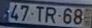4: (9, 3, 19, 21)
6: (61, 7, 72, 24)
7: (20, 4, 29, 22)
8: (72, 7, 82, 25)
R: (44, 6, 57, 23)
T: (35, 5, 45, 22)
